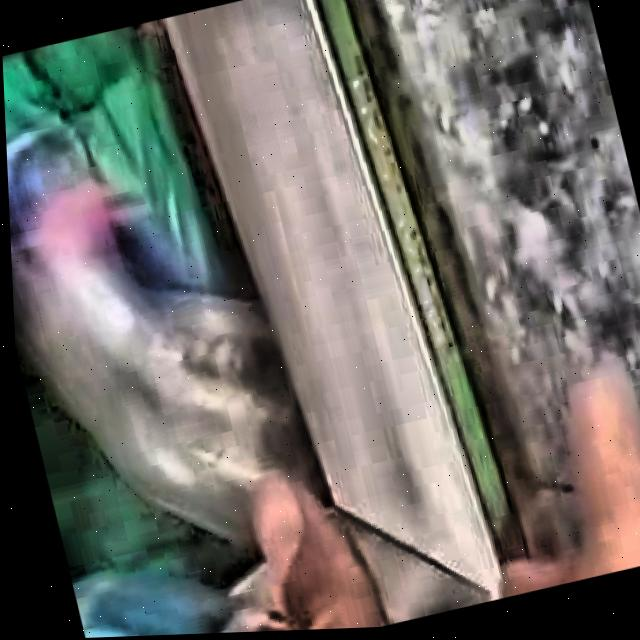metal: (5, 134, 313, 542)
